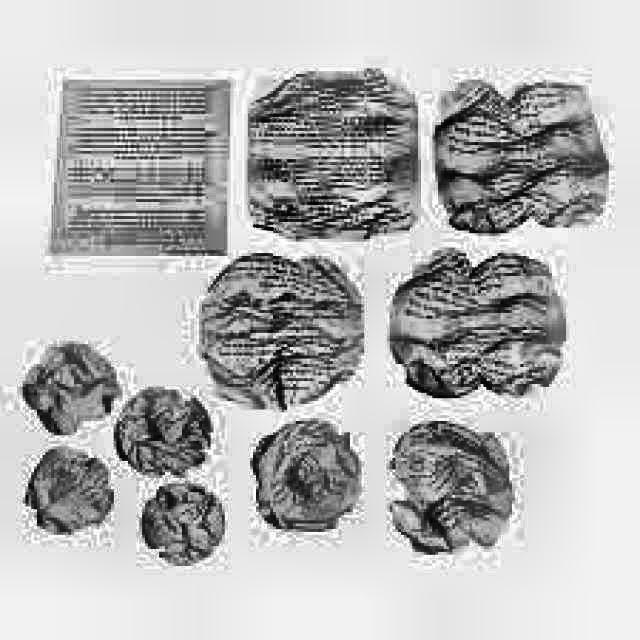Paper: (43, 74, 230, 256), (242, 65, 418, 239), (429, 74, 606, 230), (196, 250, 364, 410), (393, 250, 561, 390), (387, 418, 512, 552), (251, 415, 356, 529), (20, 342, 117, 436), (111, 384, 208, 475), (20, 444, 111, 532), (139, 478, 219, 560)
